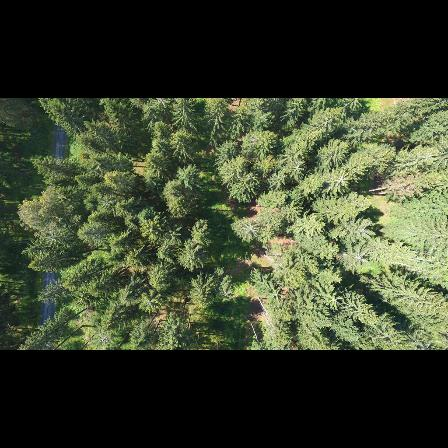Sick: (238, 215, 265, 244), (347, 246, 375, 273), (330, 168, 353, 190), (288, 158, 309, 178)
